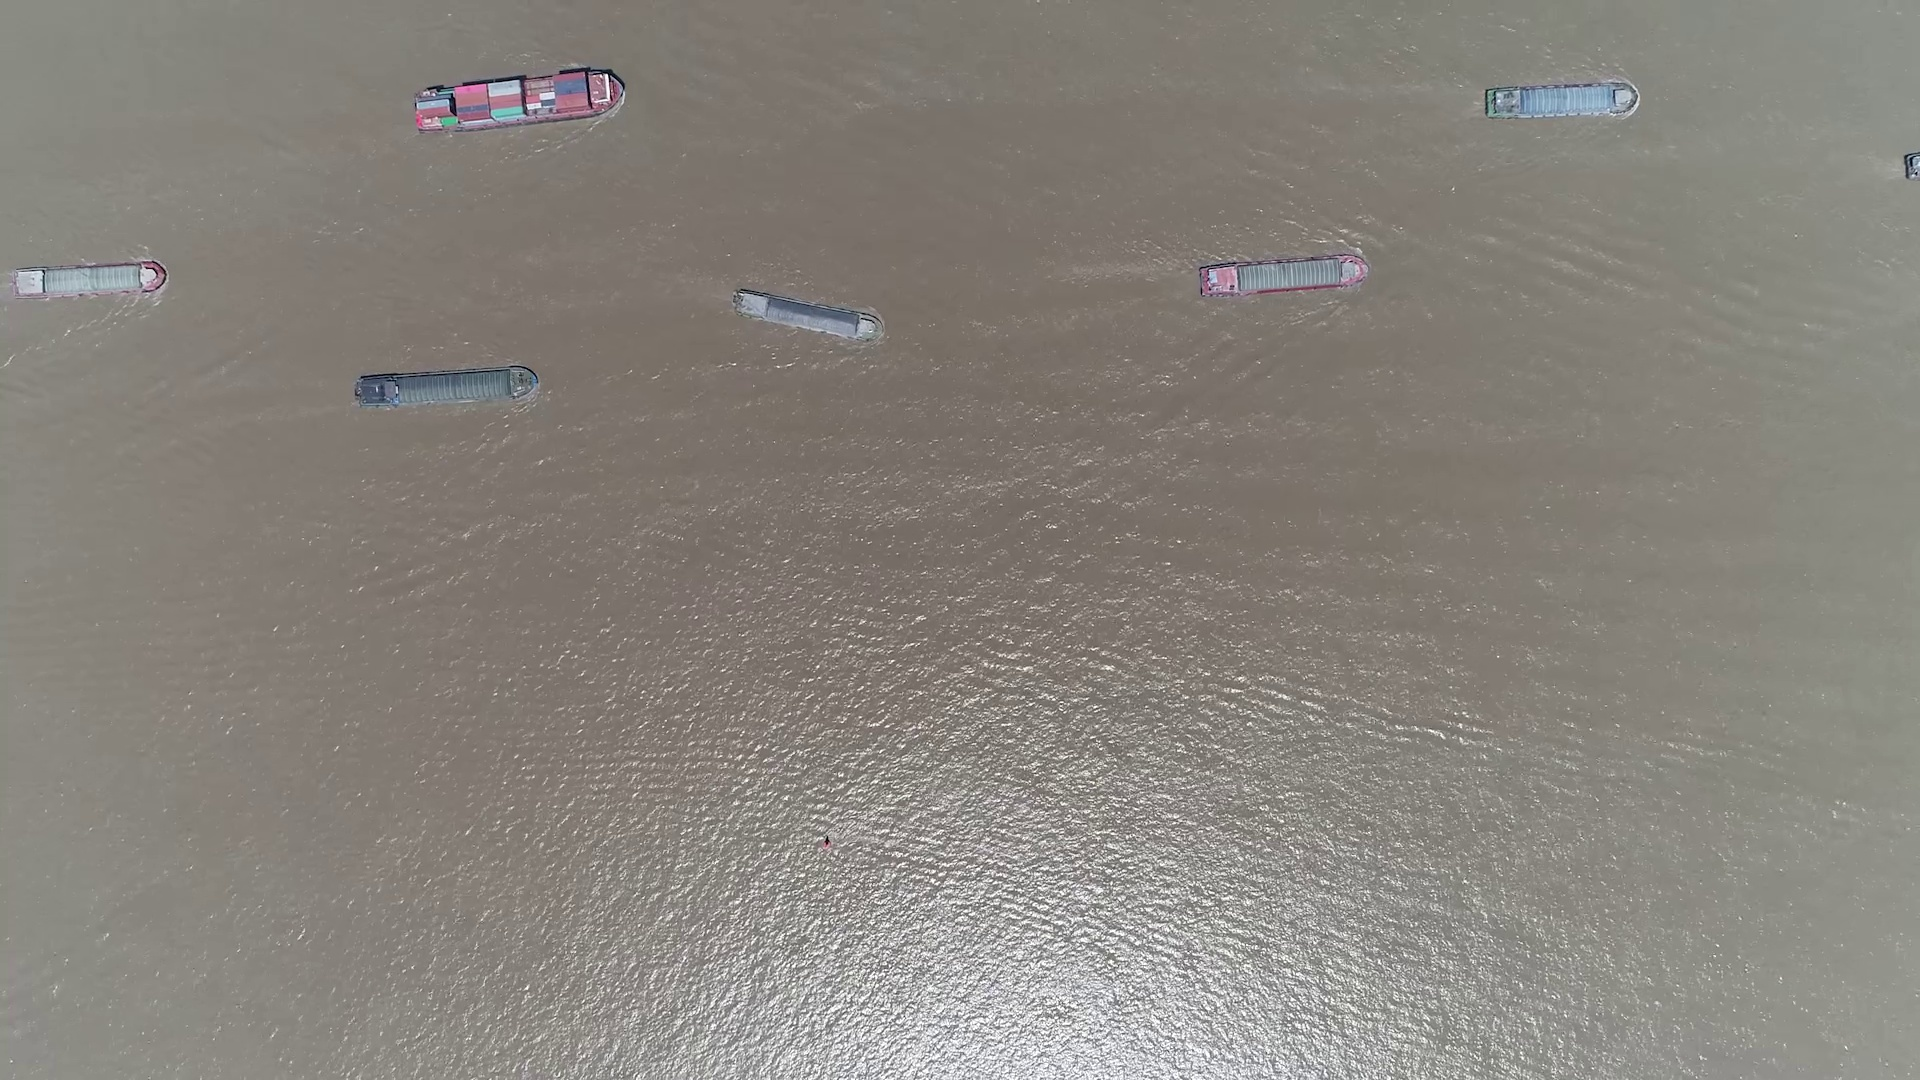ship: (414, 71, 624, 131), (731, 287, 880, 343), (353, 367, 537, 407), (1197, 255, 1369, 298), (1485, 82, 1639, 119), (11, 262, 164, 295)
